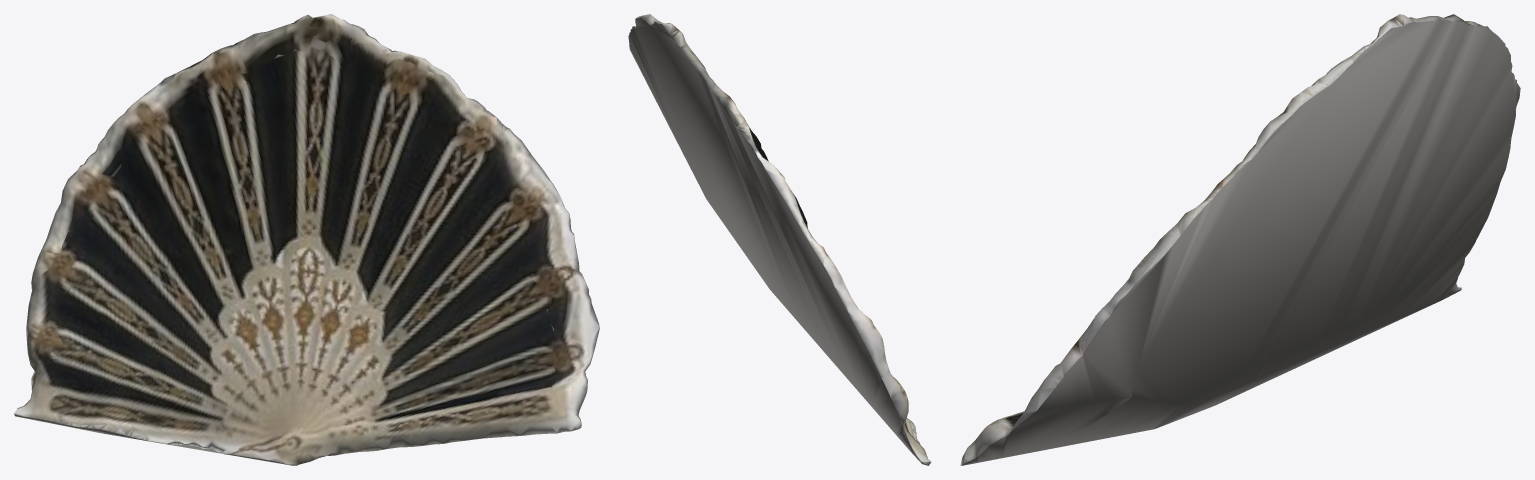
The model's file is fans.glb.
3 views of the same model, side by side, from view 1: azimuth 30°, elevation 25°; view 2: azimuth 150°, elevation 25°; view 3: azimuth 270°, elevation 25° (orthographic). The views are drawn at different scales.
Visible parts, largest first — view 1: Object_2; view 2: Object_2; view 3: Object_2.
Boxes of the visible parts, x1,y1,x2,y2 form: Object_2: (14, 14, 599, 465); Object_2: (628, 14, 931, 465); Object_2: (960, 14, 1520, 465).
Size of the model in its own units: 0.1141 by 0.0926 by 0.1037.
1 material, 1 textured.
